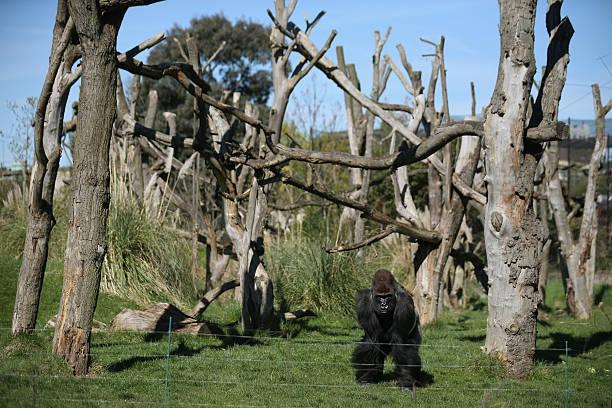goriile_montagne: (336, 258, 438, 385)
